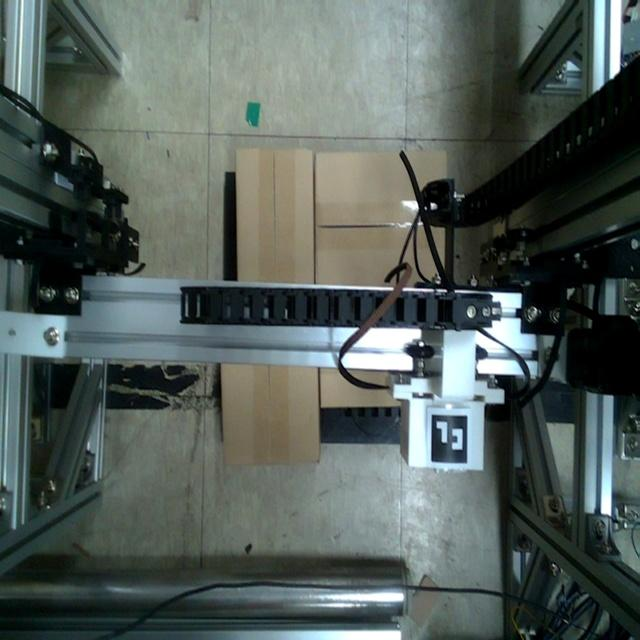box: (236, 146, 316, 286)
